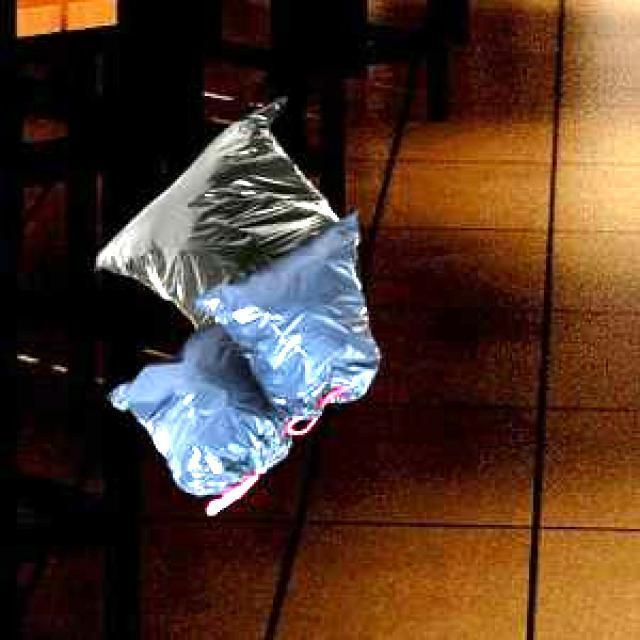Bolsa-de-nilon: (95, 100, 383, 513)
